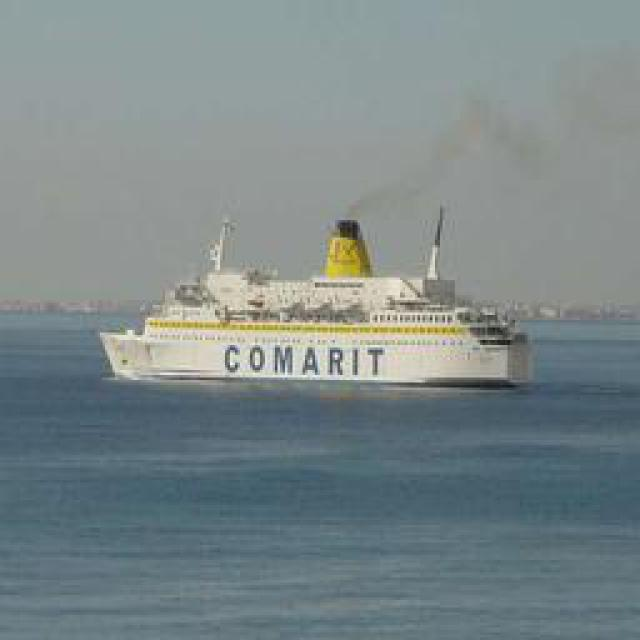Ship: (104, 198, 534, 396)
